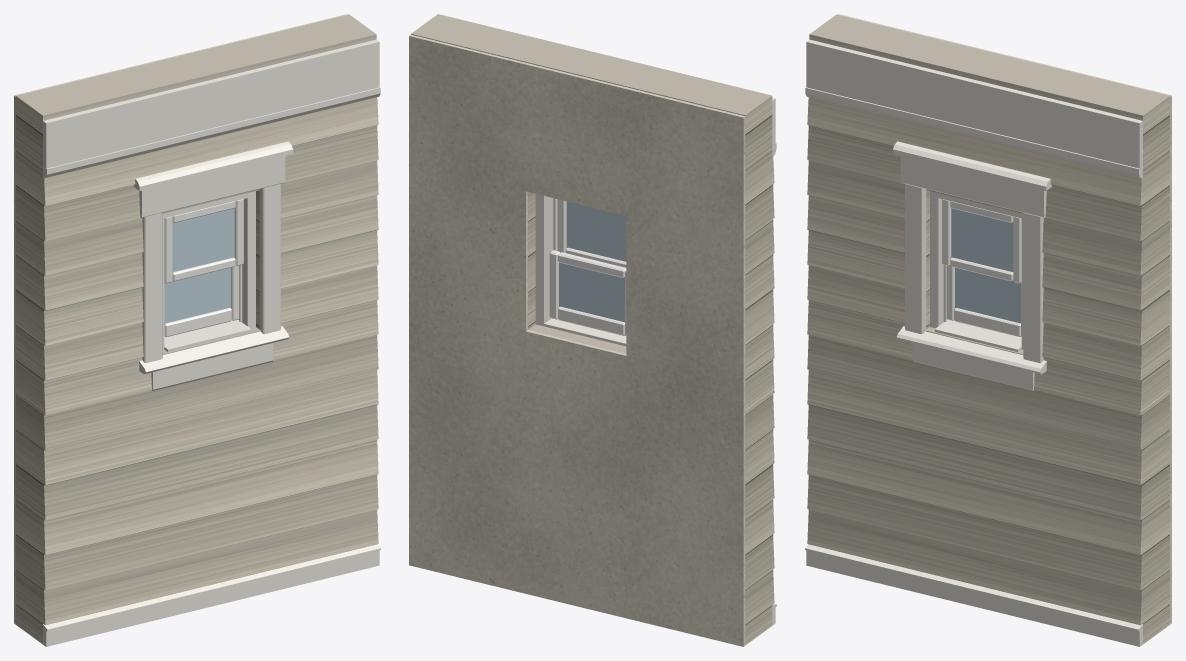
File: h_small1.glb
3 views of the same model, side by side, from view 1: azimuth 30°, elevation 25°; view 2: azimuth 150°, elevation 25°; view 3: azimuth 330°, elevation 25° (orthographic).
Visible parts, largest first — view 1: h_small1_siding, h_small1_trim, h_small1_glass, h_small1_sash, h_small1_frame, h_small1_plaster; view 2: h_small1_plaster, h_small1_siding, h_small1_glass, h_small1_sash, h_small1_frame, h_small1_trim; view 3: h_small1_siding, h_small1_trim, h_small1_glass, h_small1_sash, h_small1_frame, h_small1_plaster.
Part boxes in pixels (x1,y1,x2,y2): h_small1_siding: (16,14,378,644); h_small1_trim: (43,39,380,646); h_small1_glass: (165,208,234,323); h_small1_sash: (164,199,243,336); h_small1_frame: (162,191,255,349); h_small1_plaster: (14,14,348,624); h_small1_plaster: (409,34,745,646); h_small1_siding: (411,14,774,645); h_small1_glass: (559,201,626,322); h_small1_sash: (549,199,626,335); h_small1_frame: (535,194,557,326); h_small1_trim: (544,97,776,625); h_small1_siding: (807,14,1169,644); h_small1_trim: (805,39,1142,646); h_small1_glass: (951,208,1020,323); h_small1_sash: (942,199,1021,336); h_small1_frame: (930,191,1023,349); h_small1_plaster: (837,14,1171,624).
Size of the model in its own units: 2 by 3.03 by 0.382.
Materials: 6 (2 with a texture image).
